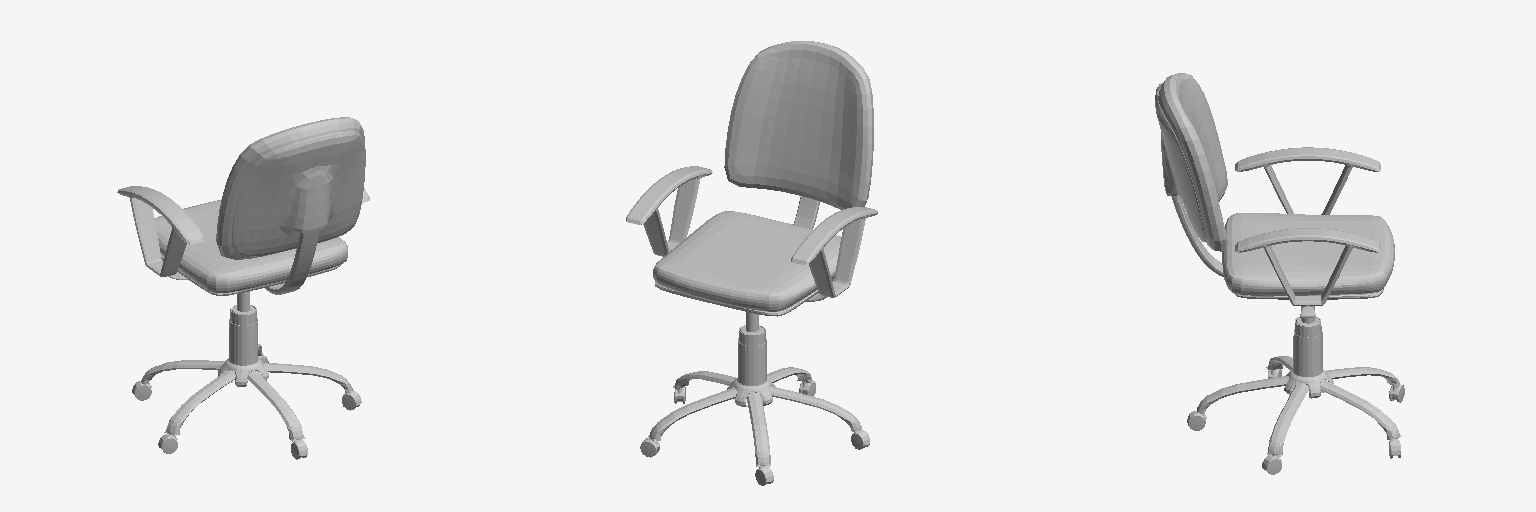
The model's file is Office Chair.obj.
3 renders of one model, left to right at view 1: azimuth 30°, elevation 25°; view 2: azimuth 150°, elevation 25°; view 3: azimuth 270°, elevation 25°, orthographic.
Visible parts, largest first — view 1: Chair_initialShadingGroup; view 2: Chair_initialShadingGroup; view 3: Chair_initialShadingGroup.
Boxes of the visible parts, x1=… form: Chair_initialShadingGroup: x1=117, y1=117, x2=369, y2=459; Chair_initialShadingGroup: x1=626, y1=41, x2=877, y2=485; Chair_initialShadingGroup: x1=1155, y1=73, x2=1404, y2=474.
Bounding box in the file's own units: 20.26 × 33.66 × 22.14.